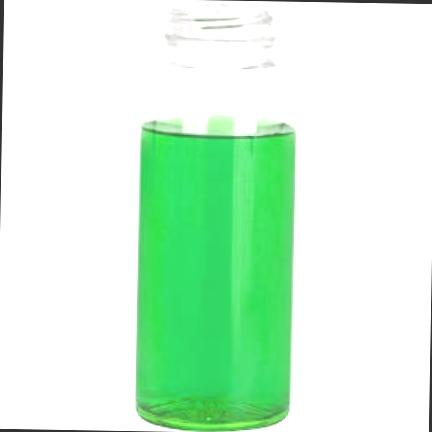container: (136, 0, 294, 428)
fluid: (137, 127, 295, 429)
fluid-surface: (144, 116, 295, 134)
